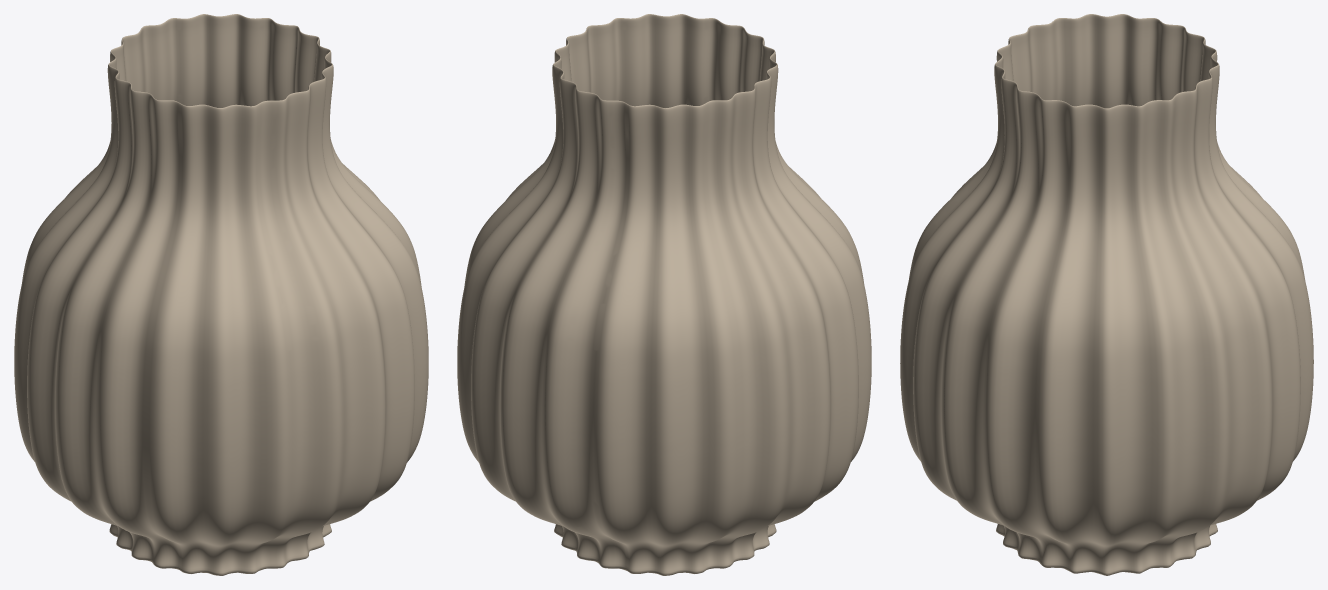
File: 3dcodebench_Vase_seed0.glb
3 renders of one model, left to right at view 1: azimuth 30°, elevation 25°; view 2: azimuth 150°, elevation 25°; view 3: azimuth 270°, elevation 25°, orthographic.
Parts seen in each view (by area): view 1: object; view 2: object; view 3: object.
Part boxes in pixels (x1,y1,x2,y2): object: (14,14,428,575); object: (457,14,871,575); object: (900,14,1313,575).
Bounding box in the file's own units: 0.3899 × 0.491 × 0.3893.
